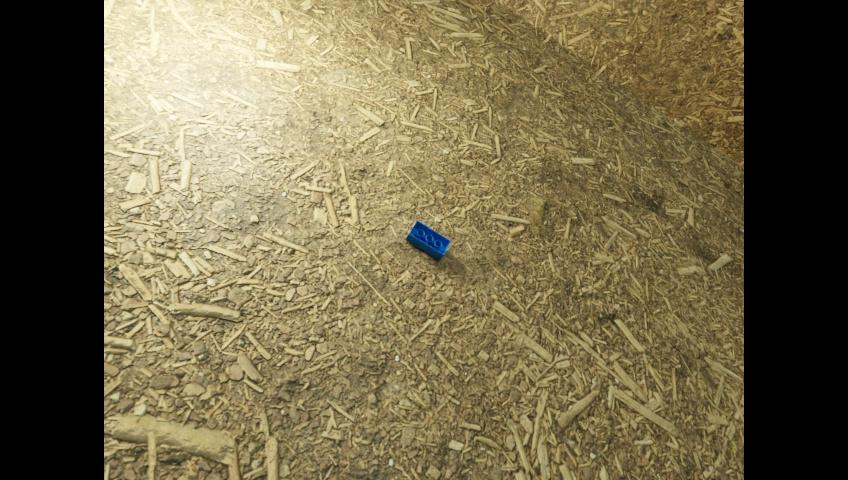4x2_blue: (405, 220, 450, 260)
